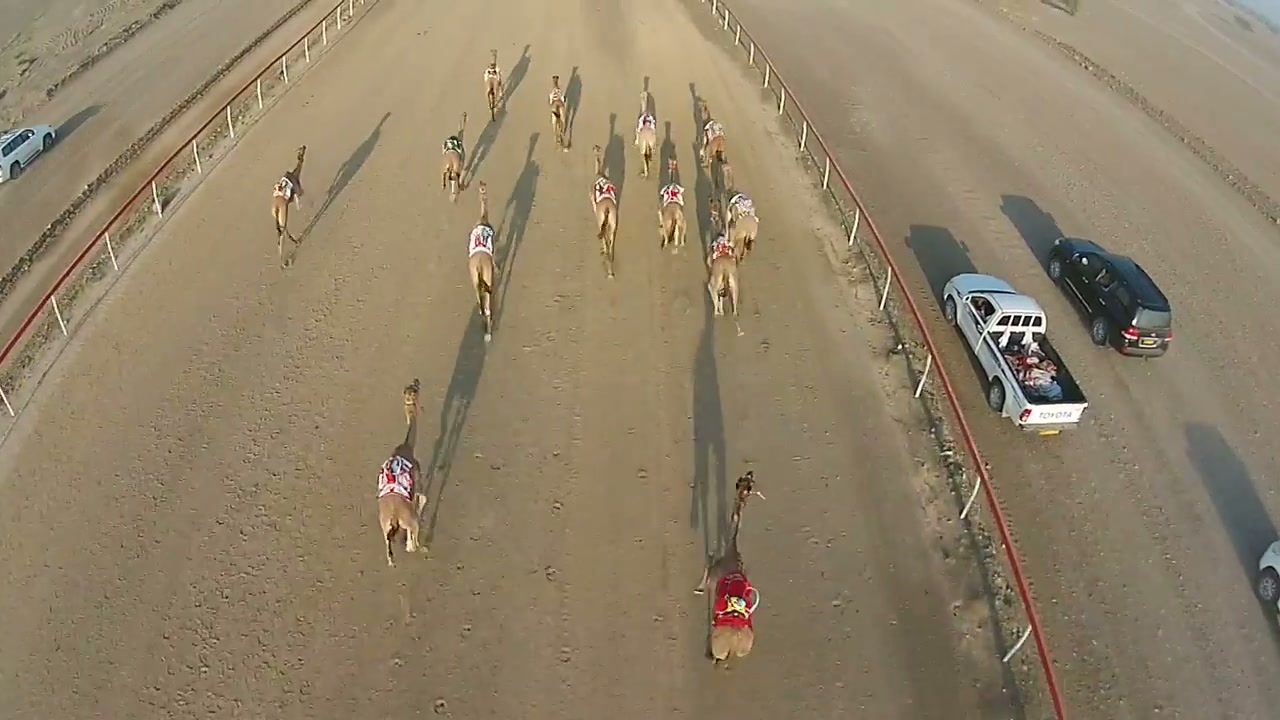animal_footprint: (364, 275, 682, 719), (166, 244, 373, 719), (764, 342, 884, 660)
